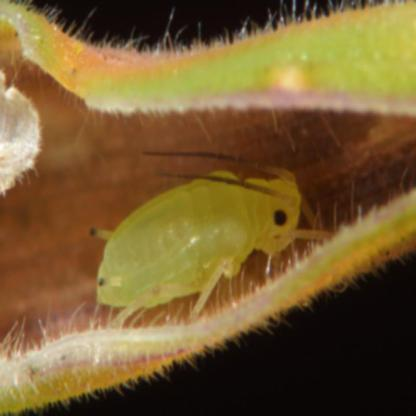schizaphis graminum: (90, 172, 302, 310)
